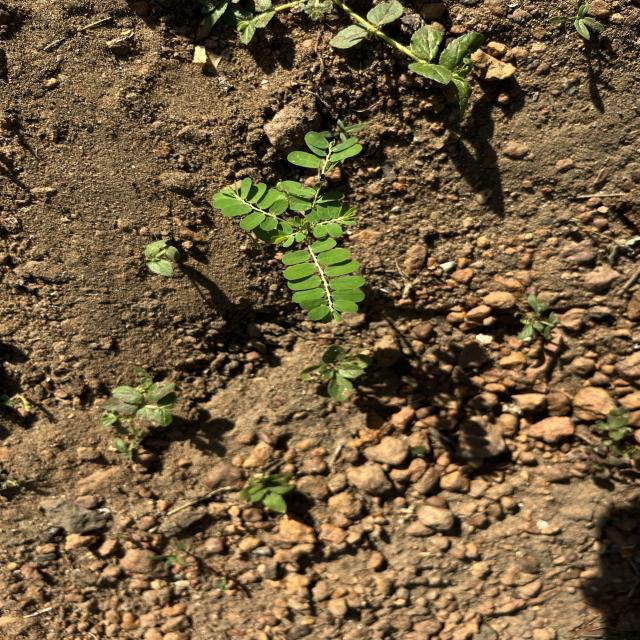Phyllanthus niruri: (276, 236, 368, 326), (208, 176, 294, 234), (304, 203, 358, 237)
